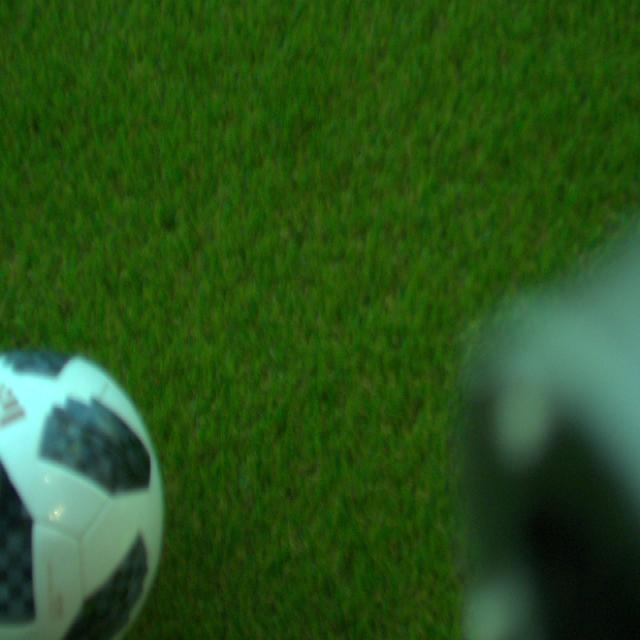ball: (0, 346, 165, 640)
